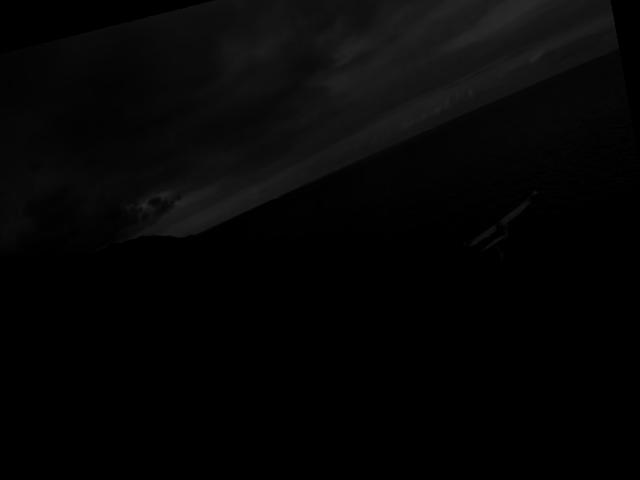hedef: (444, 184, 576, 280)
